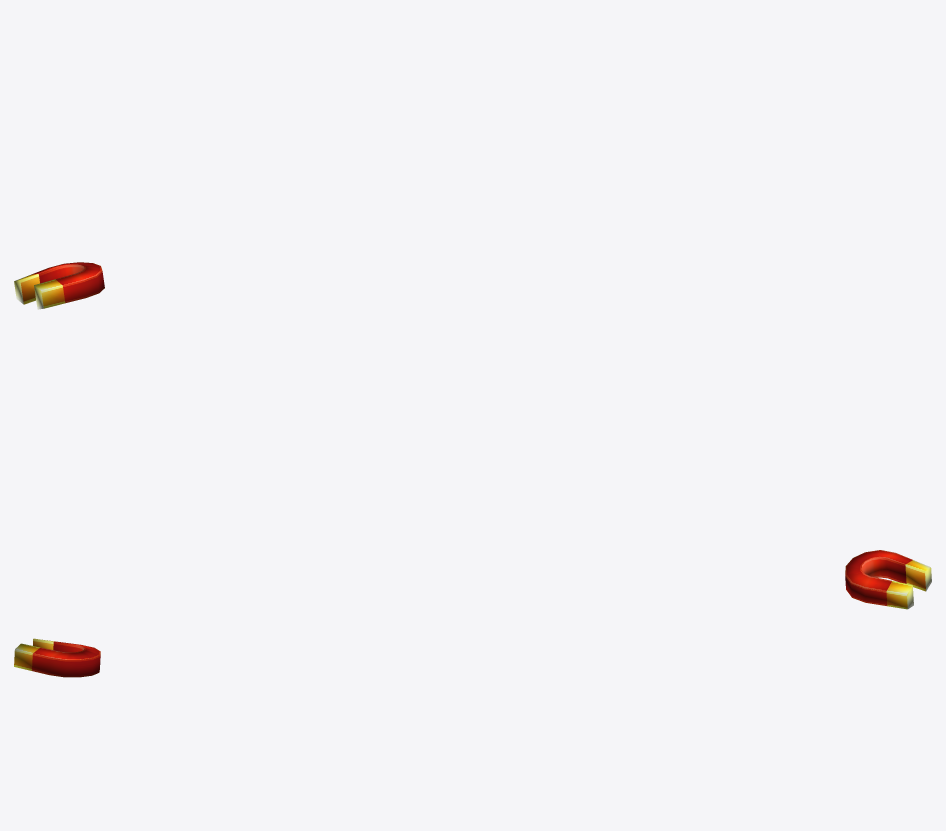
File: CoinMagnetPowerupModel.glb
The picture shows the model from 3 angles, top to bottom: view 1: azimuth 30°, elevation 25°; view 2: azimuth 150°, elevation 25°; view 3: azimuth 330°, elevation 25°; orthographic projection. The views are drawn at different scales.
Parts seen in each view (by area): view 1: CoinMagnet; view 2: CoinMagnet; view 3: CoinMagnet.
Boxes of the visible parts, x1,y1,x2,y2 form: CoinMagnet: (14,262,104,309); CoinMagnet: (845,550,931,609); CoinMagnet: (14,638,100,677).
Size of the model in its own units: 37.79 by 2.3 by 2.62.
Materials: 2 (1 with a texture image).
